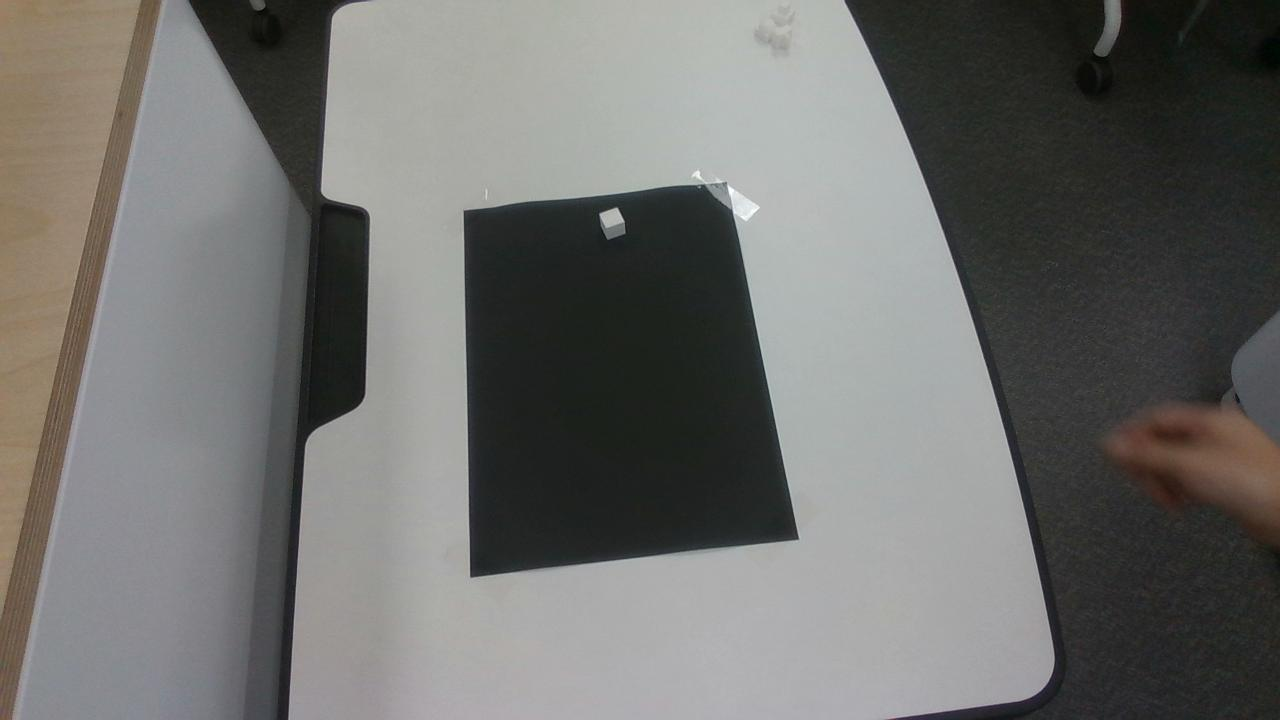cube: (600, 208, 625, 238)
